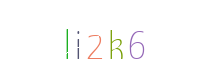2: (64, 0, 144, 80)
6: (79, 0, 159, 80)
I: (60, 0, 140, 80)
K: (67, 0, 147, 80)
L: (58, 0, 138, 80)
